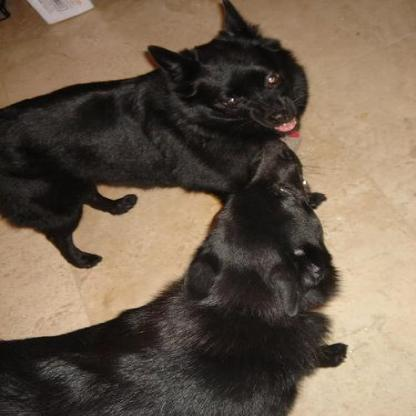schipperke: (0, 132, 349, 413), (0, 0, 306, 267)
